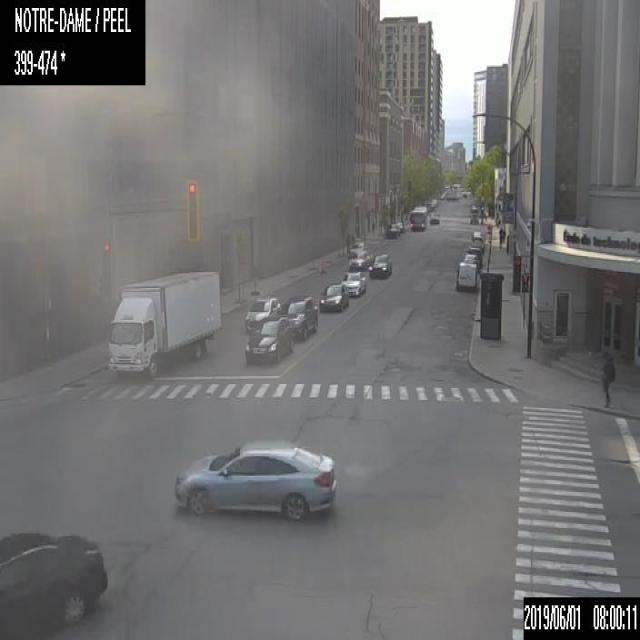bus: (408, 204, 427, 229)
construction: (319, 253, 325, 267)
pedestrian: (601, 352, 613, 405), (498, 226, 502, 246), (502, 228, 505, 245)
vehicle: (172, 439, 335, 521), (105, 268, 223, 375), (0, 528, 108, 639), (244, 320, 292, 364), (280, 295, 316, 341), (245, 296, 281, 332), (318, 283, 348, 311), (340, 271, 365, 297), (368, 254, 391, 279), (456, 260, 476, 286), (348, 250, 370, 271), (469, 203, 488, 223), (464, 253, 479, 272), (471, 230, 485, 250), (467, 245, 483, 262), (347, 243, 363, 257), (385, 223, 399, 234), (428, 212, 439, 224), (393, 221, 404, 231)
